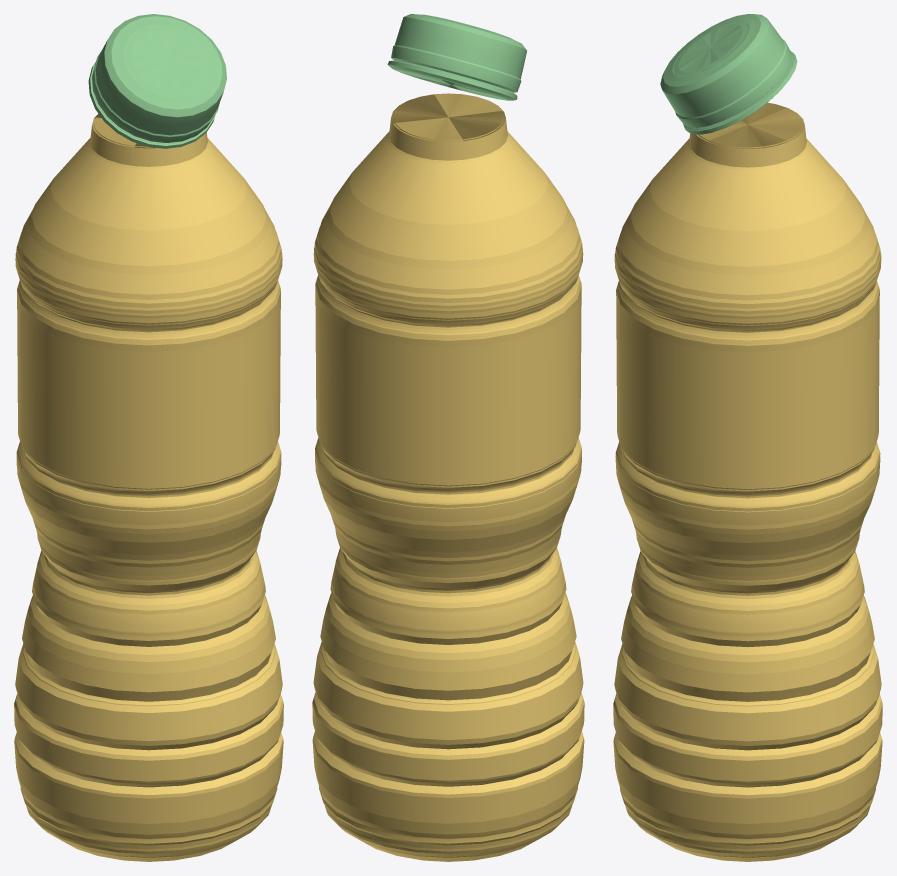
File: workglb.glb
3 views of the same model, side by side, from view 1: azimuth 30°, elevation 25°; view 2: azimuth 150°, elevation 25°; view 3: azimuth 270°, elevation 25° (orthographic).
Parts seen in each view (by area): view 1: Layer_01(B28EB510-D3E2-4C14-8C9C-6DE5ACC16E68), BottleCap; view 2: Layer_01(B28EB510-D3E2-4C14-8C9C-6DE5ACC16E68), BottleCap; view 3: Layer_01(B28EB510-D3E2-4C14-8C9C-6DE5ACC16E68), BottleCap.
Boxes of the visible parts, x1=… form: Layer_01(B28EB510-D3E2-4C14-8C9C-6DE5ACC16E68): x1=14, y1=114, x2=283, y2=861; BottleCap: x1=88, y1=14, x2=226, y2=148; Layer_01(B28EB510-D3E2-4C14-8C9C-6DE5ACC16E68): x1=312, y1=93, x2=584, y2=861; BottleCap: x1=387, y1=14, x2=526, y2=100; Layer_01(B28EB510-D3E2-4C14-8C9C-6DE5ACC16E68): x1=613, y1=102, x2=882, y2=861; BottleCap: x1=660, y1=14, x2=797, y2=134.
Size of what is drawn, in the model's own units: 0.3157 by 1.04 by 0.3157.
